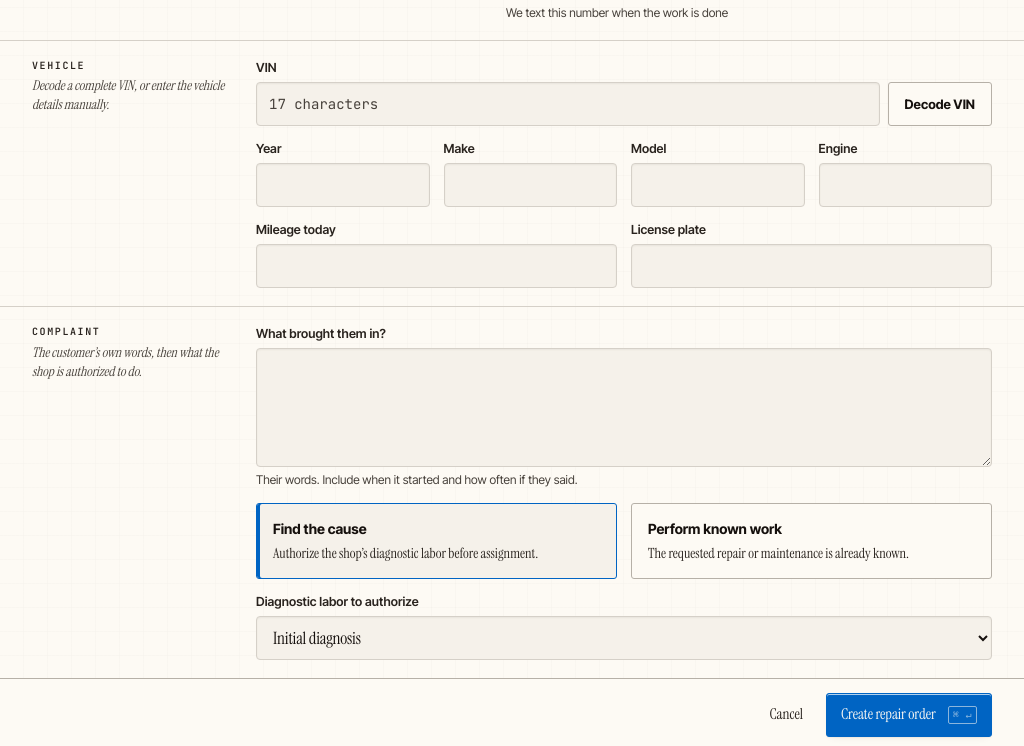
Test: WriteUp › the complaint reads as a single section › reveals typed known work from the same dropdown that lists saved work
This screenshot has width=1024, height=746.
(page scrolled)
Click the button "Perform known work" at (715, 528), box x1=631 y1=503 x2=992 y2=579
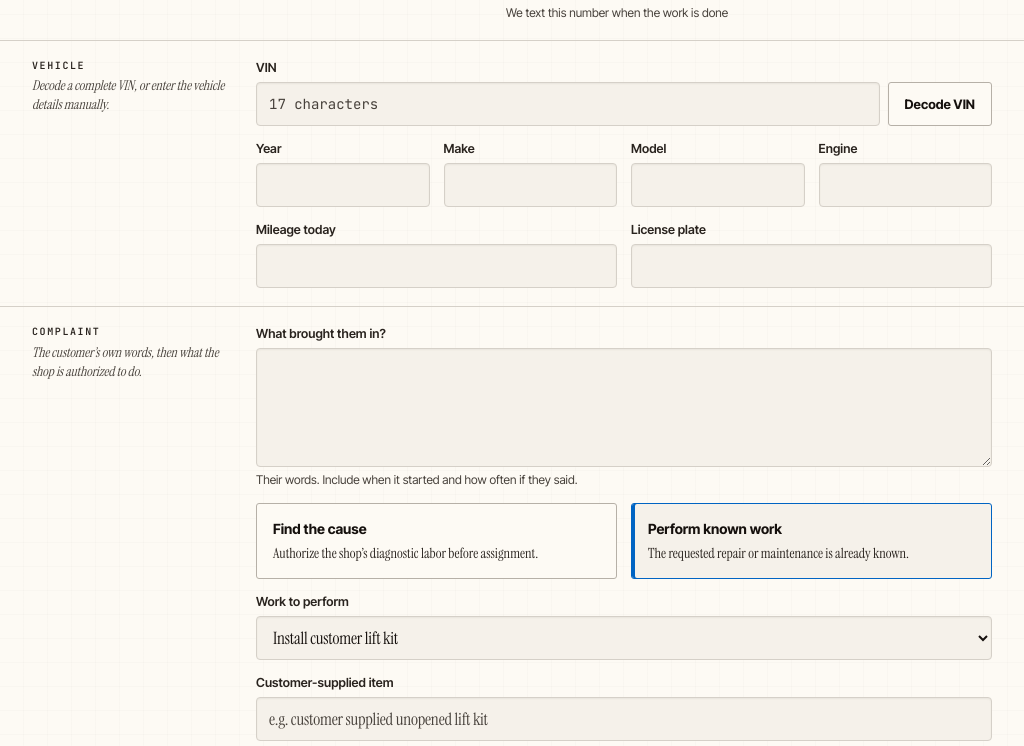
expect the field labelled "requested work" is not shown: met
Select "Something else — type it" in the dropdown labelled "Work to perform" at (624, 638), box x1=256 y1=616 x2=992 y2=660
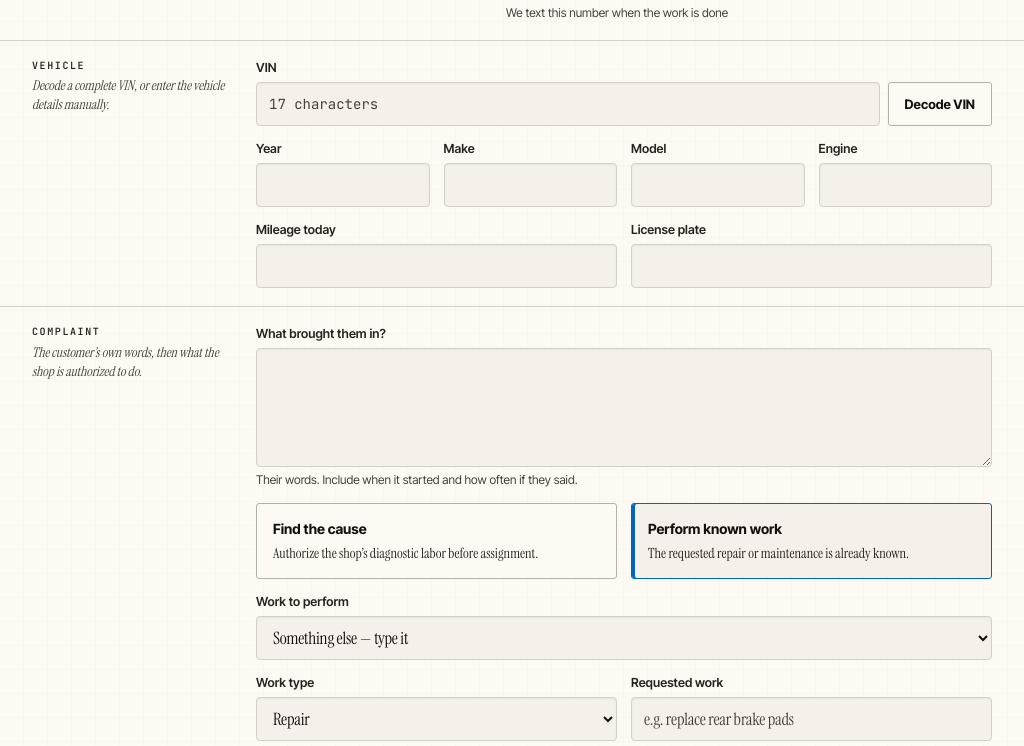
expect the field labelled "Requested work" is shown: met, box x1=631 y1=697 x2=992 y2=741
